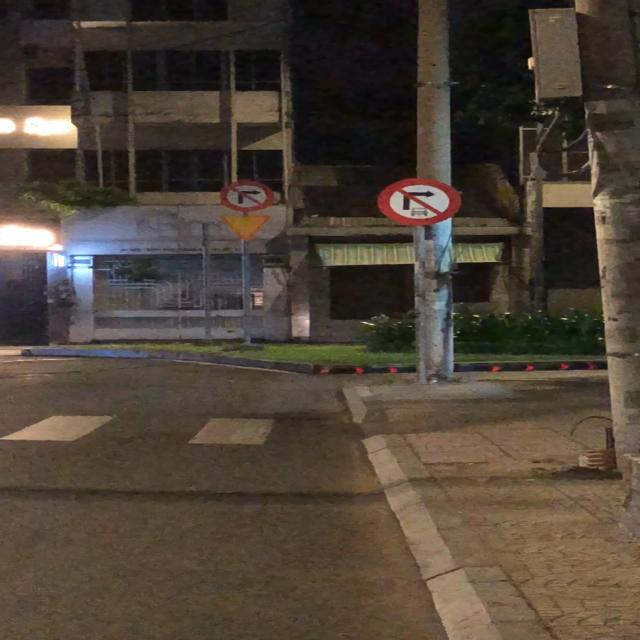Bien bao cam re phai: (218, 179, 278, 213)
Bien bao cam xe o to re phai: (375, 177, 465, 228)
Bien bao giao nhau voi duong uu tien: (218, 213, 273, 242)
